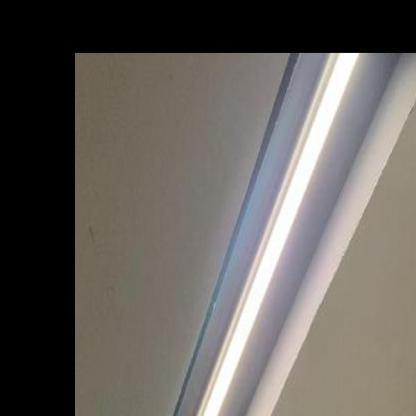light_on: (158, 0, 402, 415)
